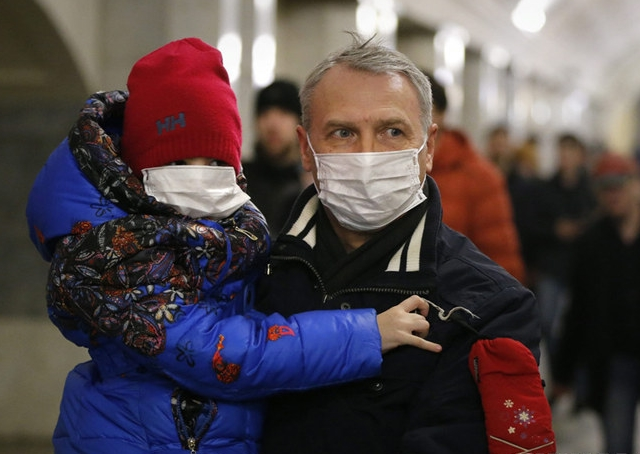mask: (294, 129, 436, 224), (130, 146, 268, 222)
